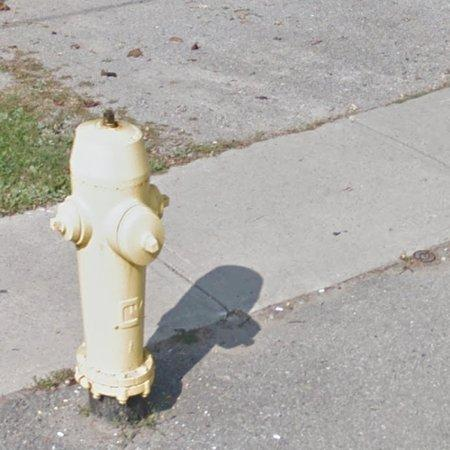a fire hydrant: (50, 113, 169, 405)
